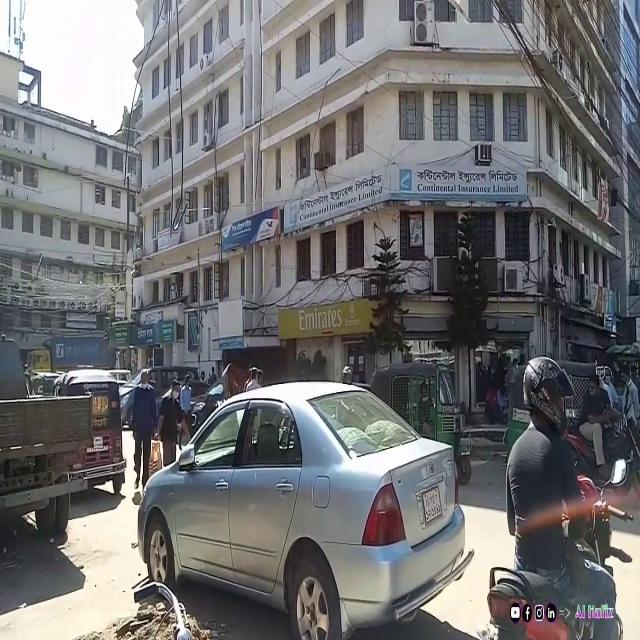silver: (139, 381, 471, 640)
